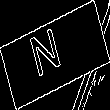N_S: (36, 25, 74, 85)
